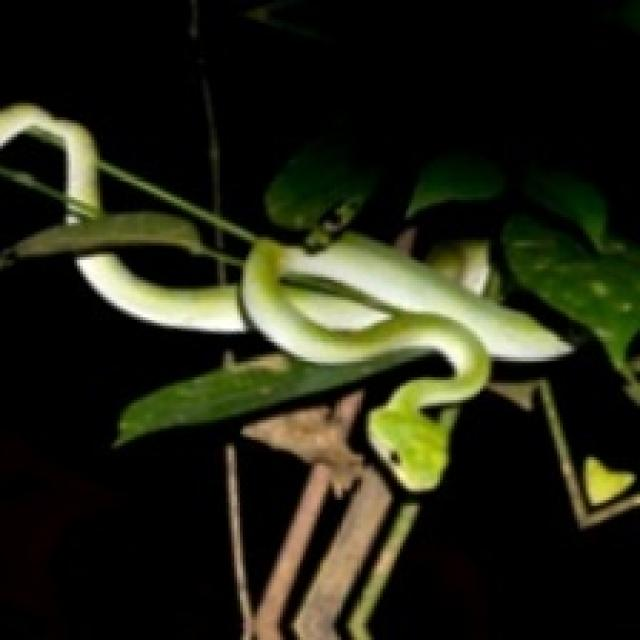north ph temple pitviper: (0, 103, 569, 489)
